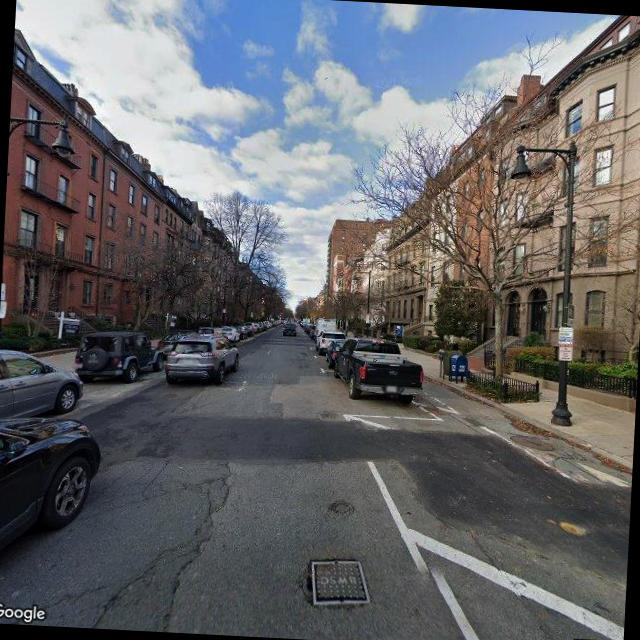crack: (74, 455, 240, 635)
pothole: (548, 514, 588, 538), (322, 496, 356, 520)
